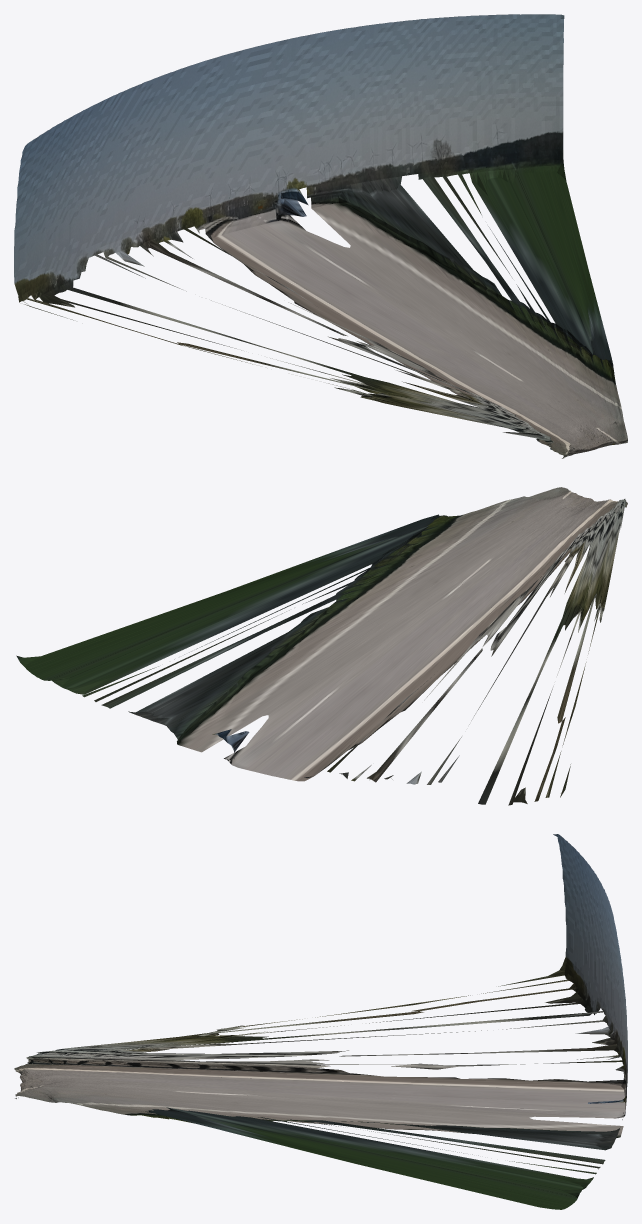
The picture shows the model from 3 angles, top to bottom: view 1: azimuth 30°, elevation 25°; view 2: azimuth 150°, elevation 25°; view 3: azimuth 270°, elevation 25°; orthographic projection. The views are drawn at different scales.
Visible parts, largest first — view 1: defaultobject; view 2: defaultobject; view 3: defaultobject.
Part boxes in pixels (box(x1,y1,x2,y2)): defaultobject: box(14, 14, 627, 458); defaultobject: box(16, 487, 627, 805); defaultobject: box(14, 834, 627, 1209).
Size of the model in its own units: 41.16 by 13.23 by 44.43.
Materials: 1 (1 with a texture image).
